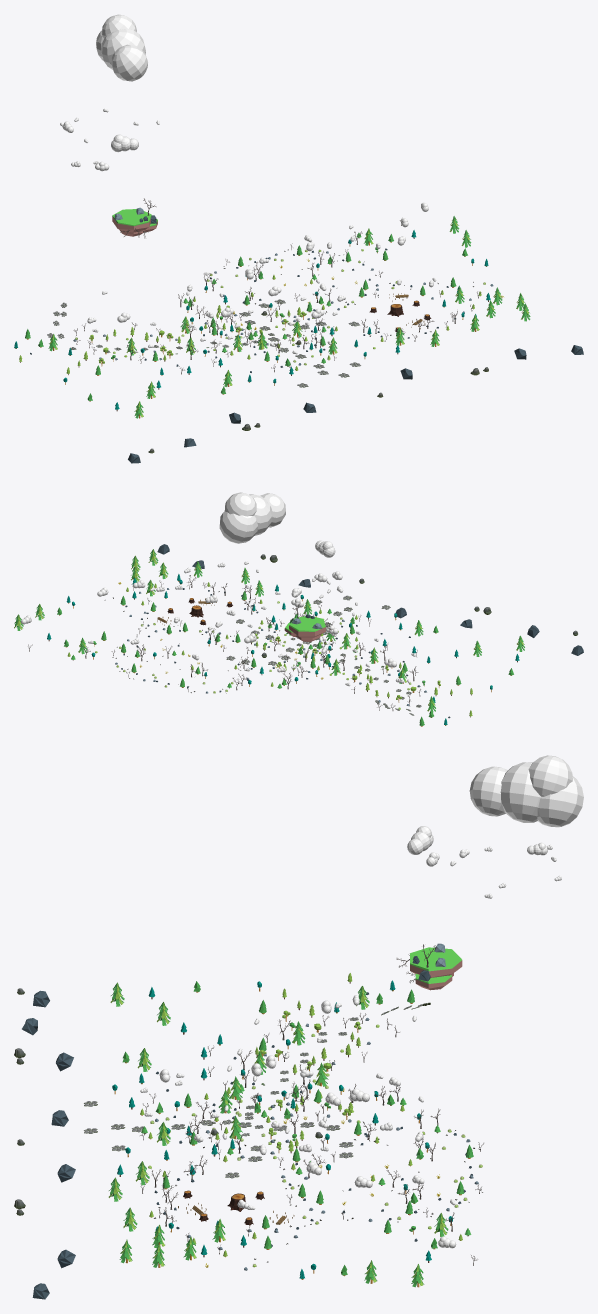
The model's file is Objetos_UR.glb.
The picture shows the model from 3 angles, top to bottom: view 1: azimuth 30°, elevation 25°; view 2: azimuth 150°, elevation 25°; view 3: azimuth 270°, elevation 25°; orthographic projection. The views are drawn at different scales.
Parts seen in each view (by area): view 1: group601634601.076, GrassPlatform_Cylinder.002; view 2: group601634601.076, GrassPlatform_Cylinder.002; view 3: group601634601.076, GrassPlatform_Cylinder.002.
Boxes of the visible parts, x1=… form: group601634601.076: x1=96, y1=14, x2=147, y2=81; GrassPlatform_Cylinder.002: x1=112, y1=209, x2=151, y2=232; group601634601.076: x1=219, y1=492, x2=285, y2=543; GrassPlatform_Cylinder.002: x1=289, y1=616, x2=325, y2=637; group601634601.076: x1=469, y1=755, x2=583, y2=827; GrassPlatform_Cylinder.002: x1=410, y1=947, x2=462, y2=977.
Bounding box in the file's own units: 25.34 × 13.78 × 19.73.
20 materials, 8 textured.
